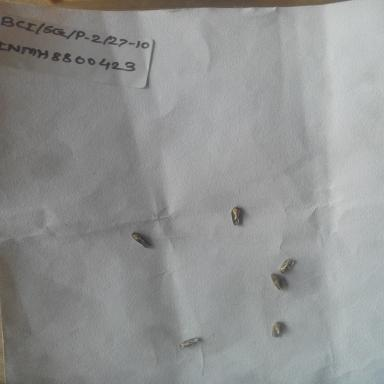pbw: (130, 230, 154, 249), (275, 257, 299, 274), (268, 271, 286, 292), (176, 336, 204, 349), (228, 205, 245, 226), (268, 320, 286, 339)
